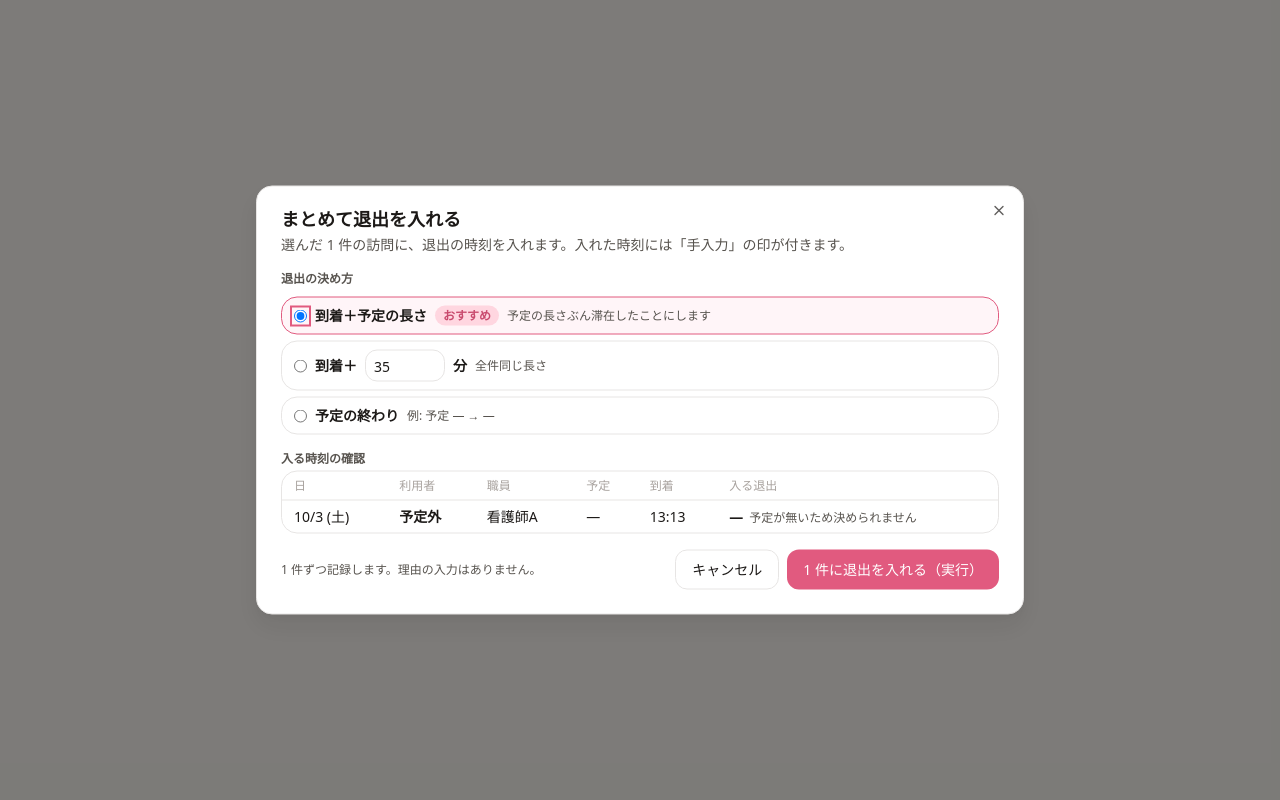
Test: BulkDepartureDialog › 予定の無い訪問は送らずに理由を残す
The width and height of the screenshot is (1280, 800).
Step 1. Click the button with test id "history-bulk-run" → (893, 570), box top-left (787, 550), bottom-right (999, 590)
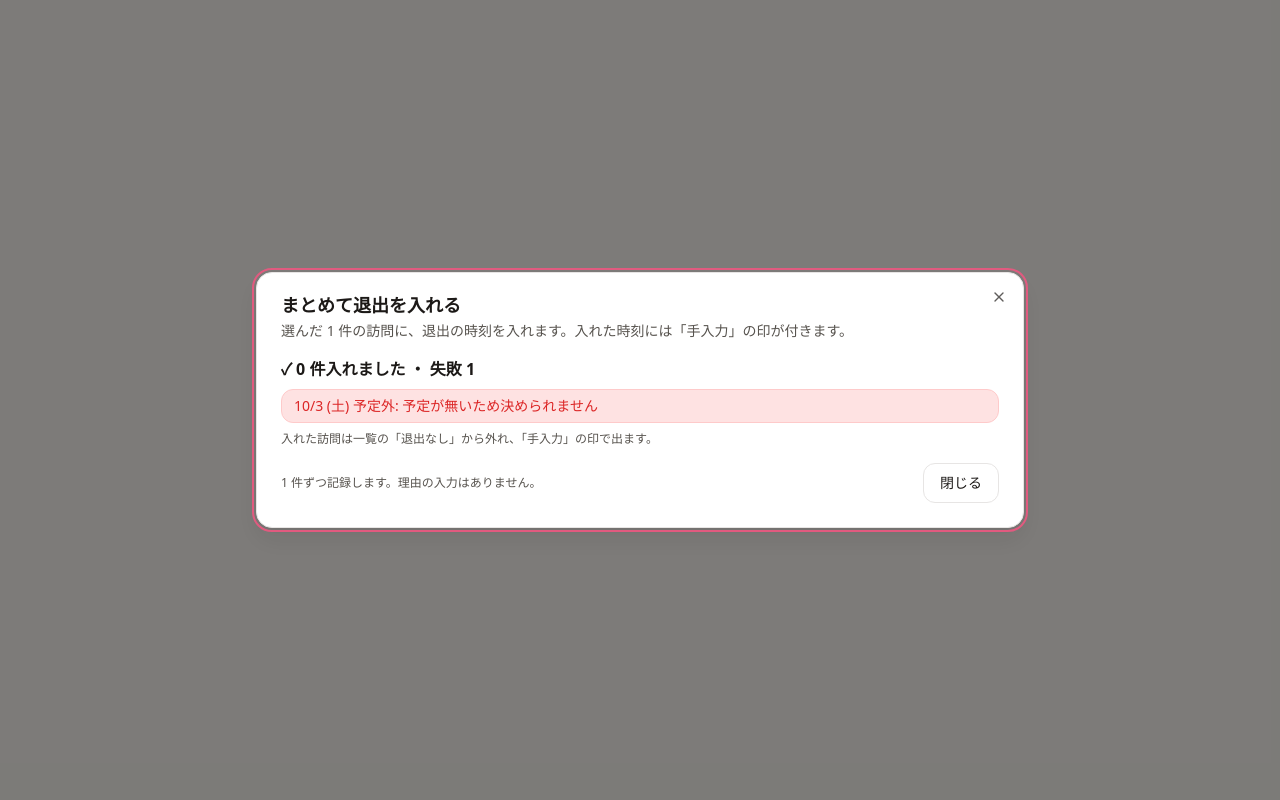
Expected: the text with test id "history-bulk-summary" shows "0 件入れました ・ 失敗 1", top-left (281, 358), bottom-right (475, 380)
Expected: the list item with test id "history-bulk-failure-v-u" shows "予定が無いため決められません", top-left (402, 396), bottom-right (598, 415)
